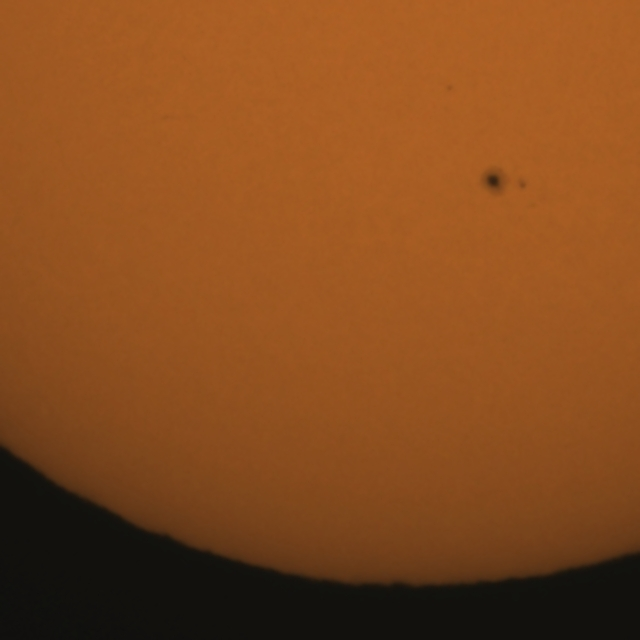sunspot: (480, 166, 505, 196), (514, 176, 530, 193), (444, 82, 455, 94)
